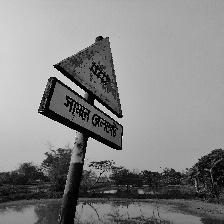Rail-crossing: (38, 36, 124, 151)
